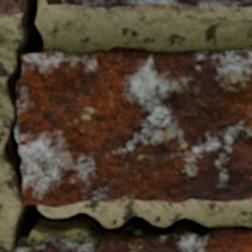brick: (16, 47, 251, 206), (16, 228, 251, 251), (47, 0, 251, 6), (0, 0, 23, 13)
crack: (0, 0, 249, 251)
